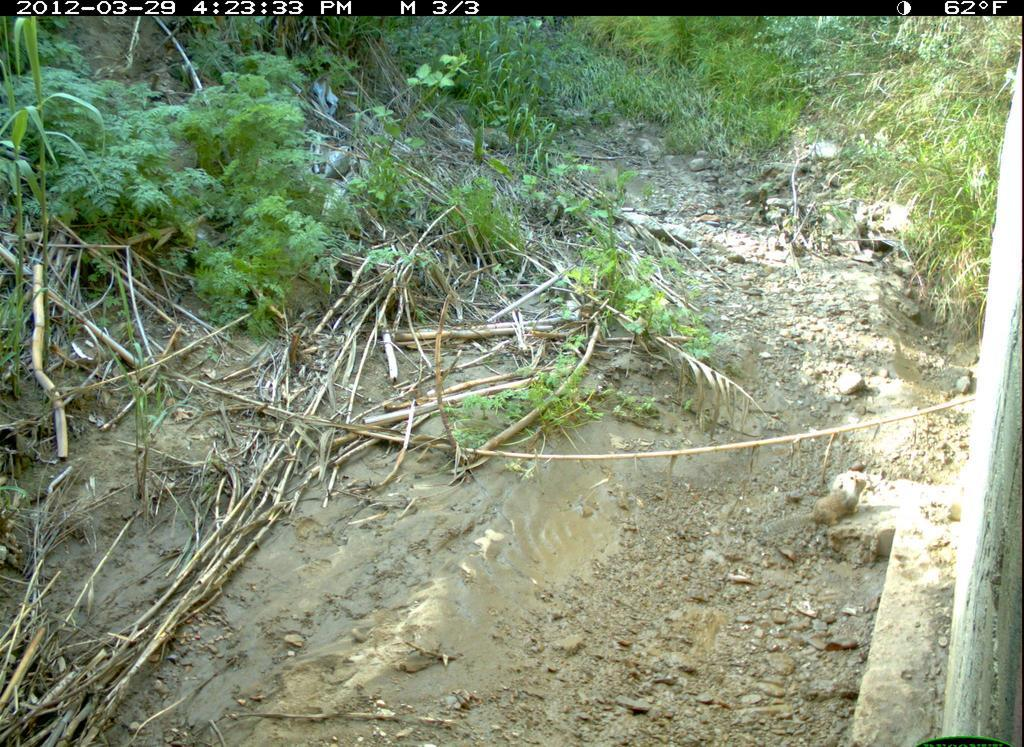squirrel: (765, 468, 868, 541)
